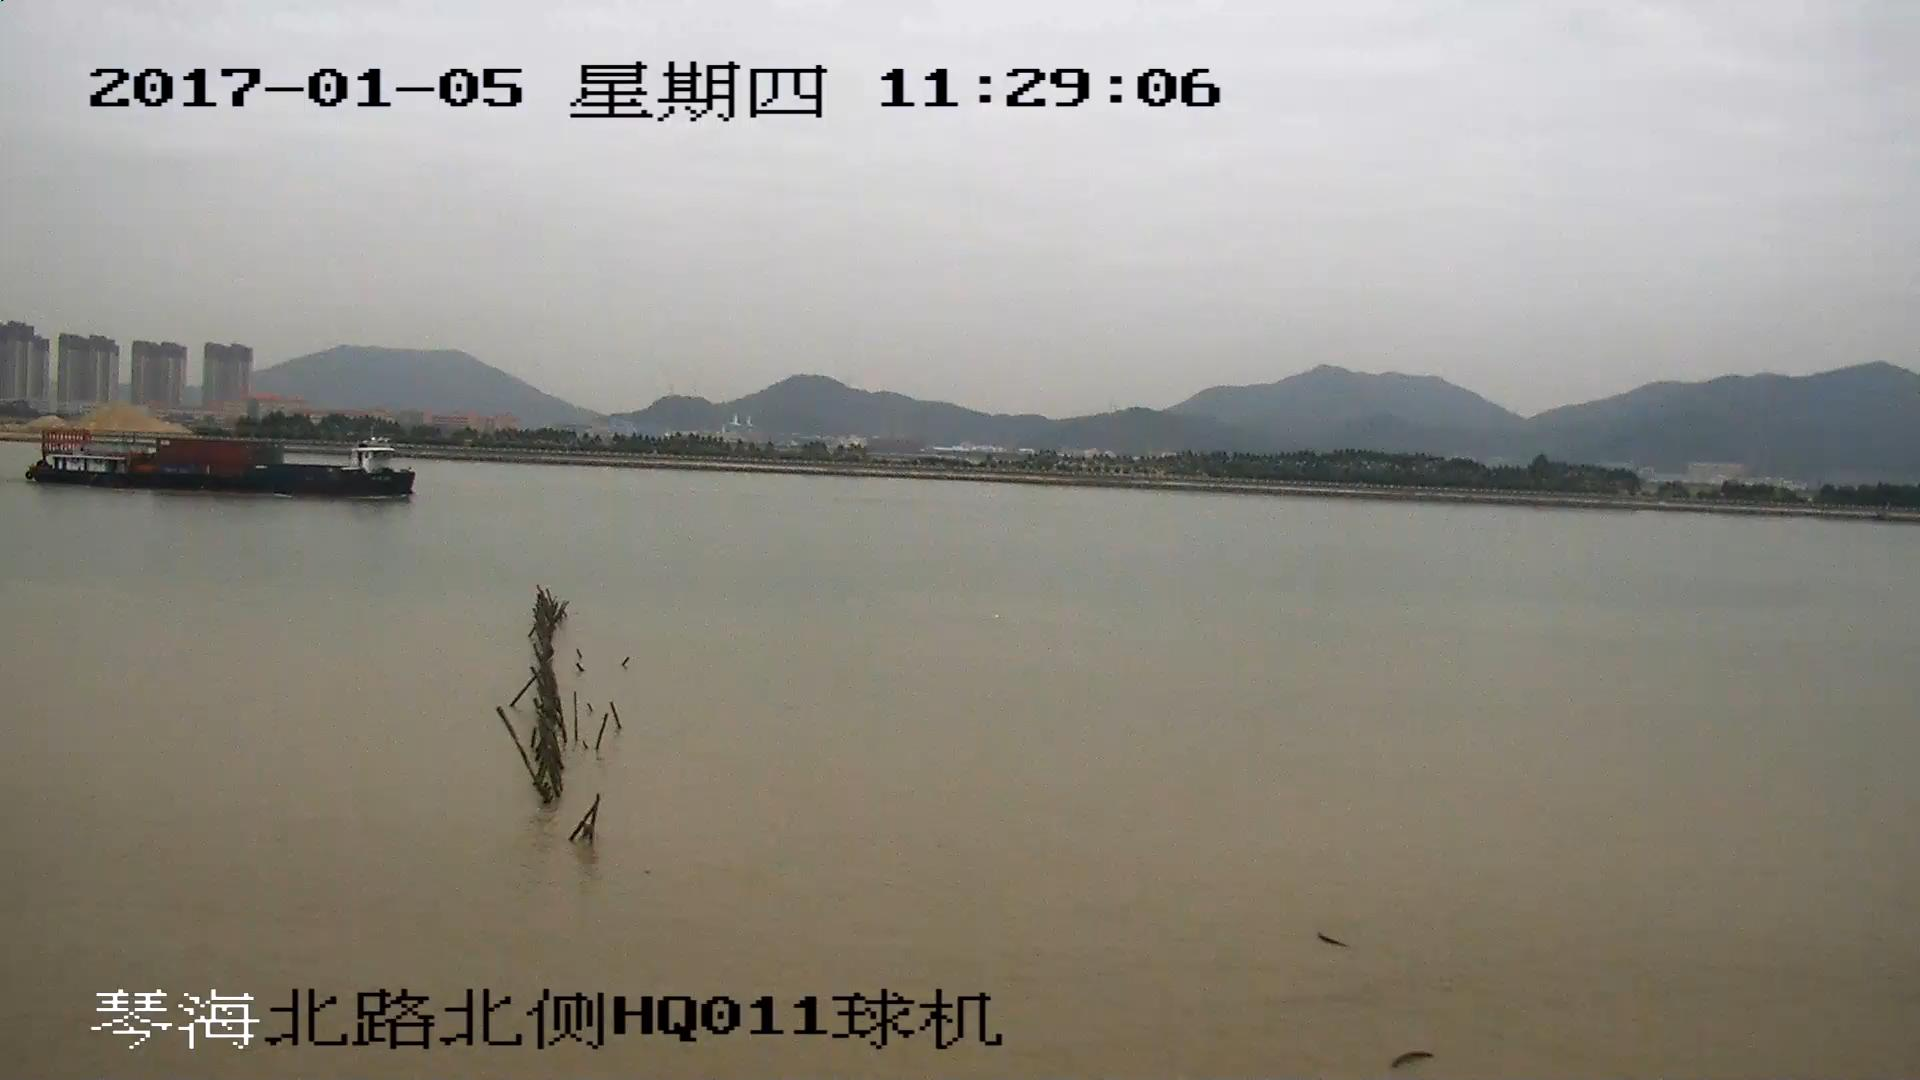container ship: (25, 431, 412, 500)
